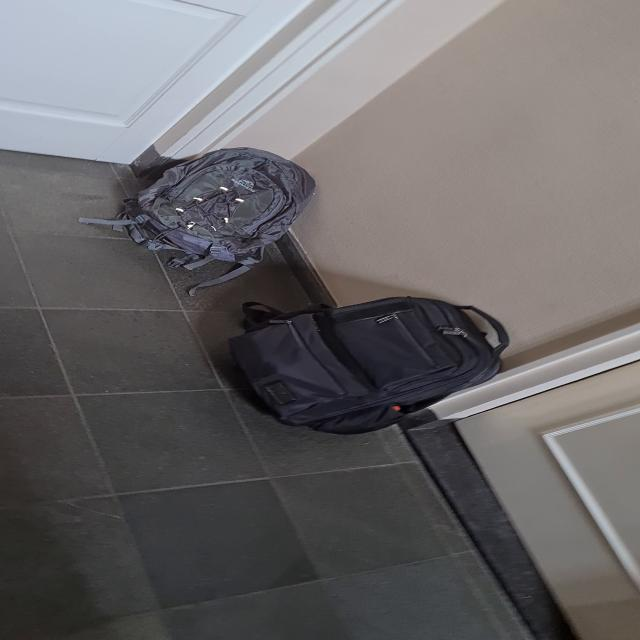backpack: (224, 293, 518, 439), (129, 140, 327, 267)
